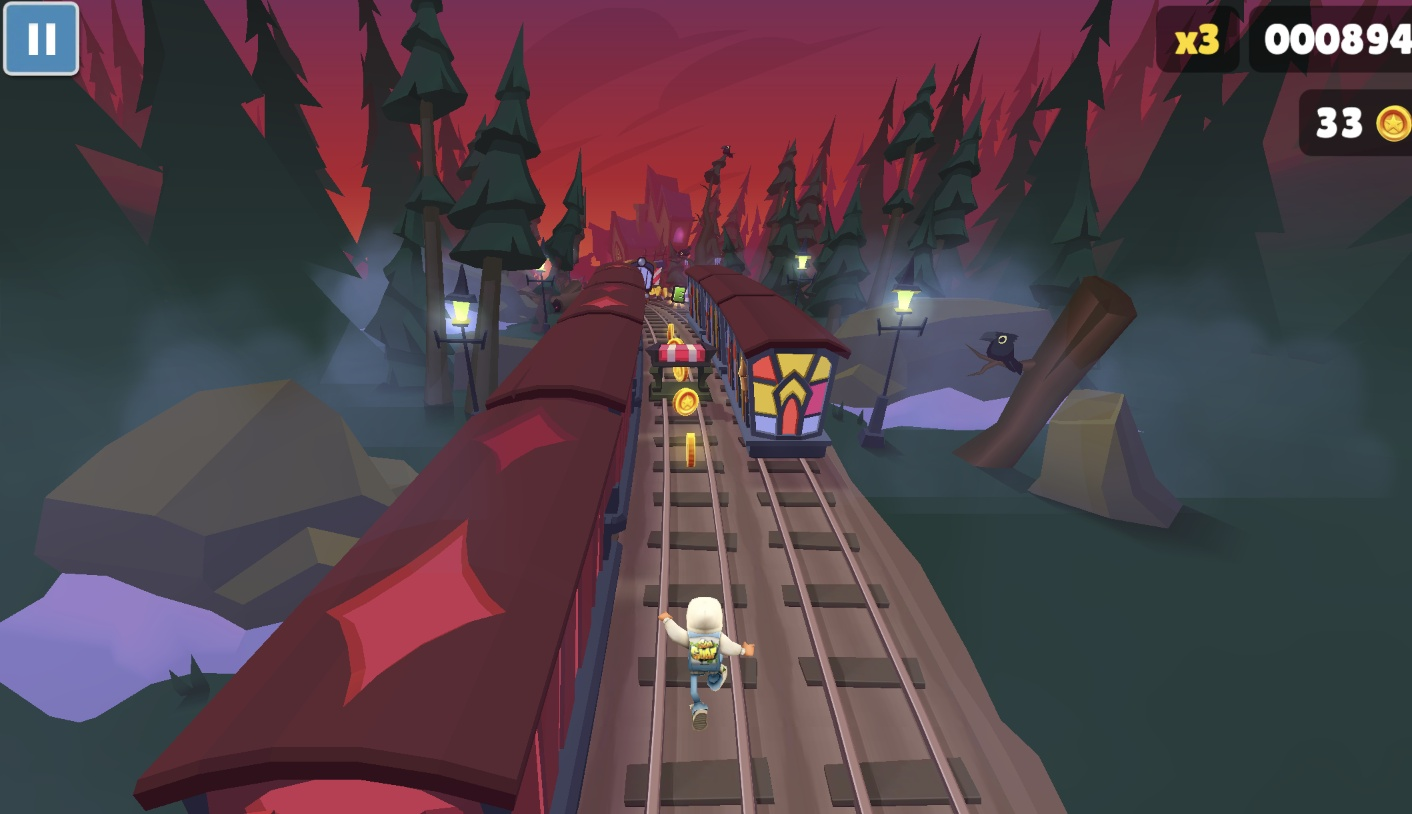ground_barrier: (645, 343, 717, 399)
overhead_barrier: (652, 260, 665, 287)
train: (156, 256, 648, 814), (851, 719, 1221, 814), (684, 257, 861, 450), (635, 251, 666, 287)
